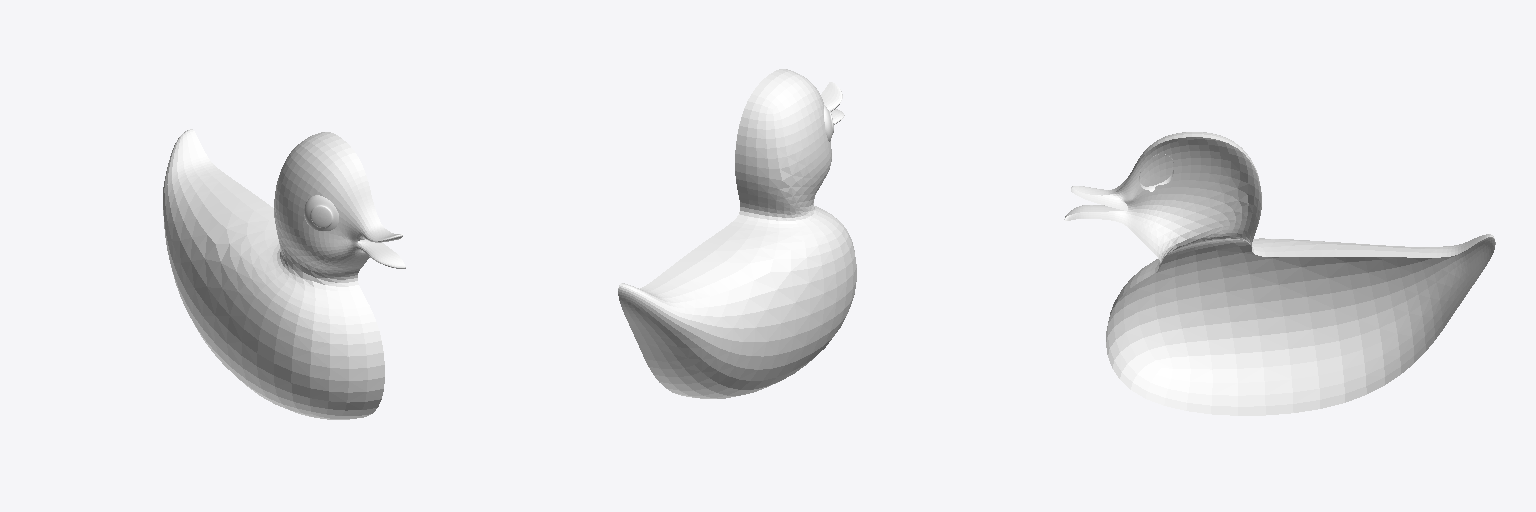
File: ducky_obj.obj
3 renders of one model, left to right at view 1: azimuth 30°, elevation 25°; view 2: azimuth 150°, elevation 25°; view 3: azimuth 270°, elevation 25°, orthographic.
Visible parts, largest first — view 1: ducky; view 2: ducky; view 3: ducky.
Part boxes in pixels (bbox=[...]): ducky: bbox=[163, 129, 405, 419]; ducky: bbox=[618, 69, 856, 398]; ducky: bbox=[1064, 132, 1495, 415].
Size of the model in its own units: 92.51 by 292 by 409.